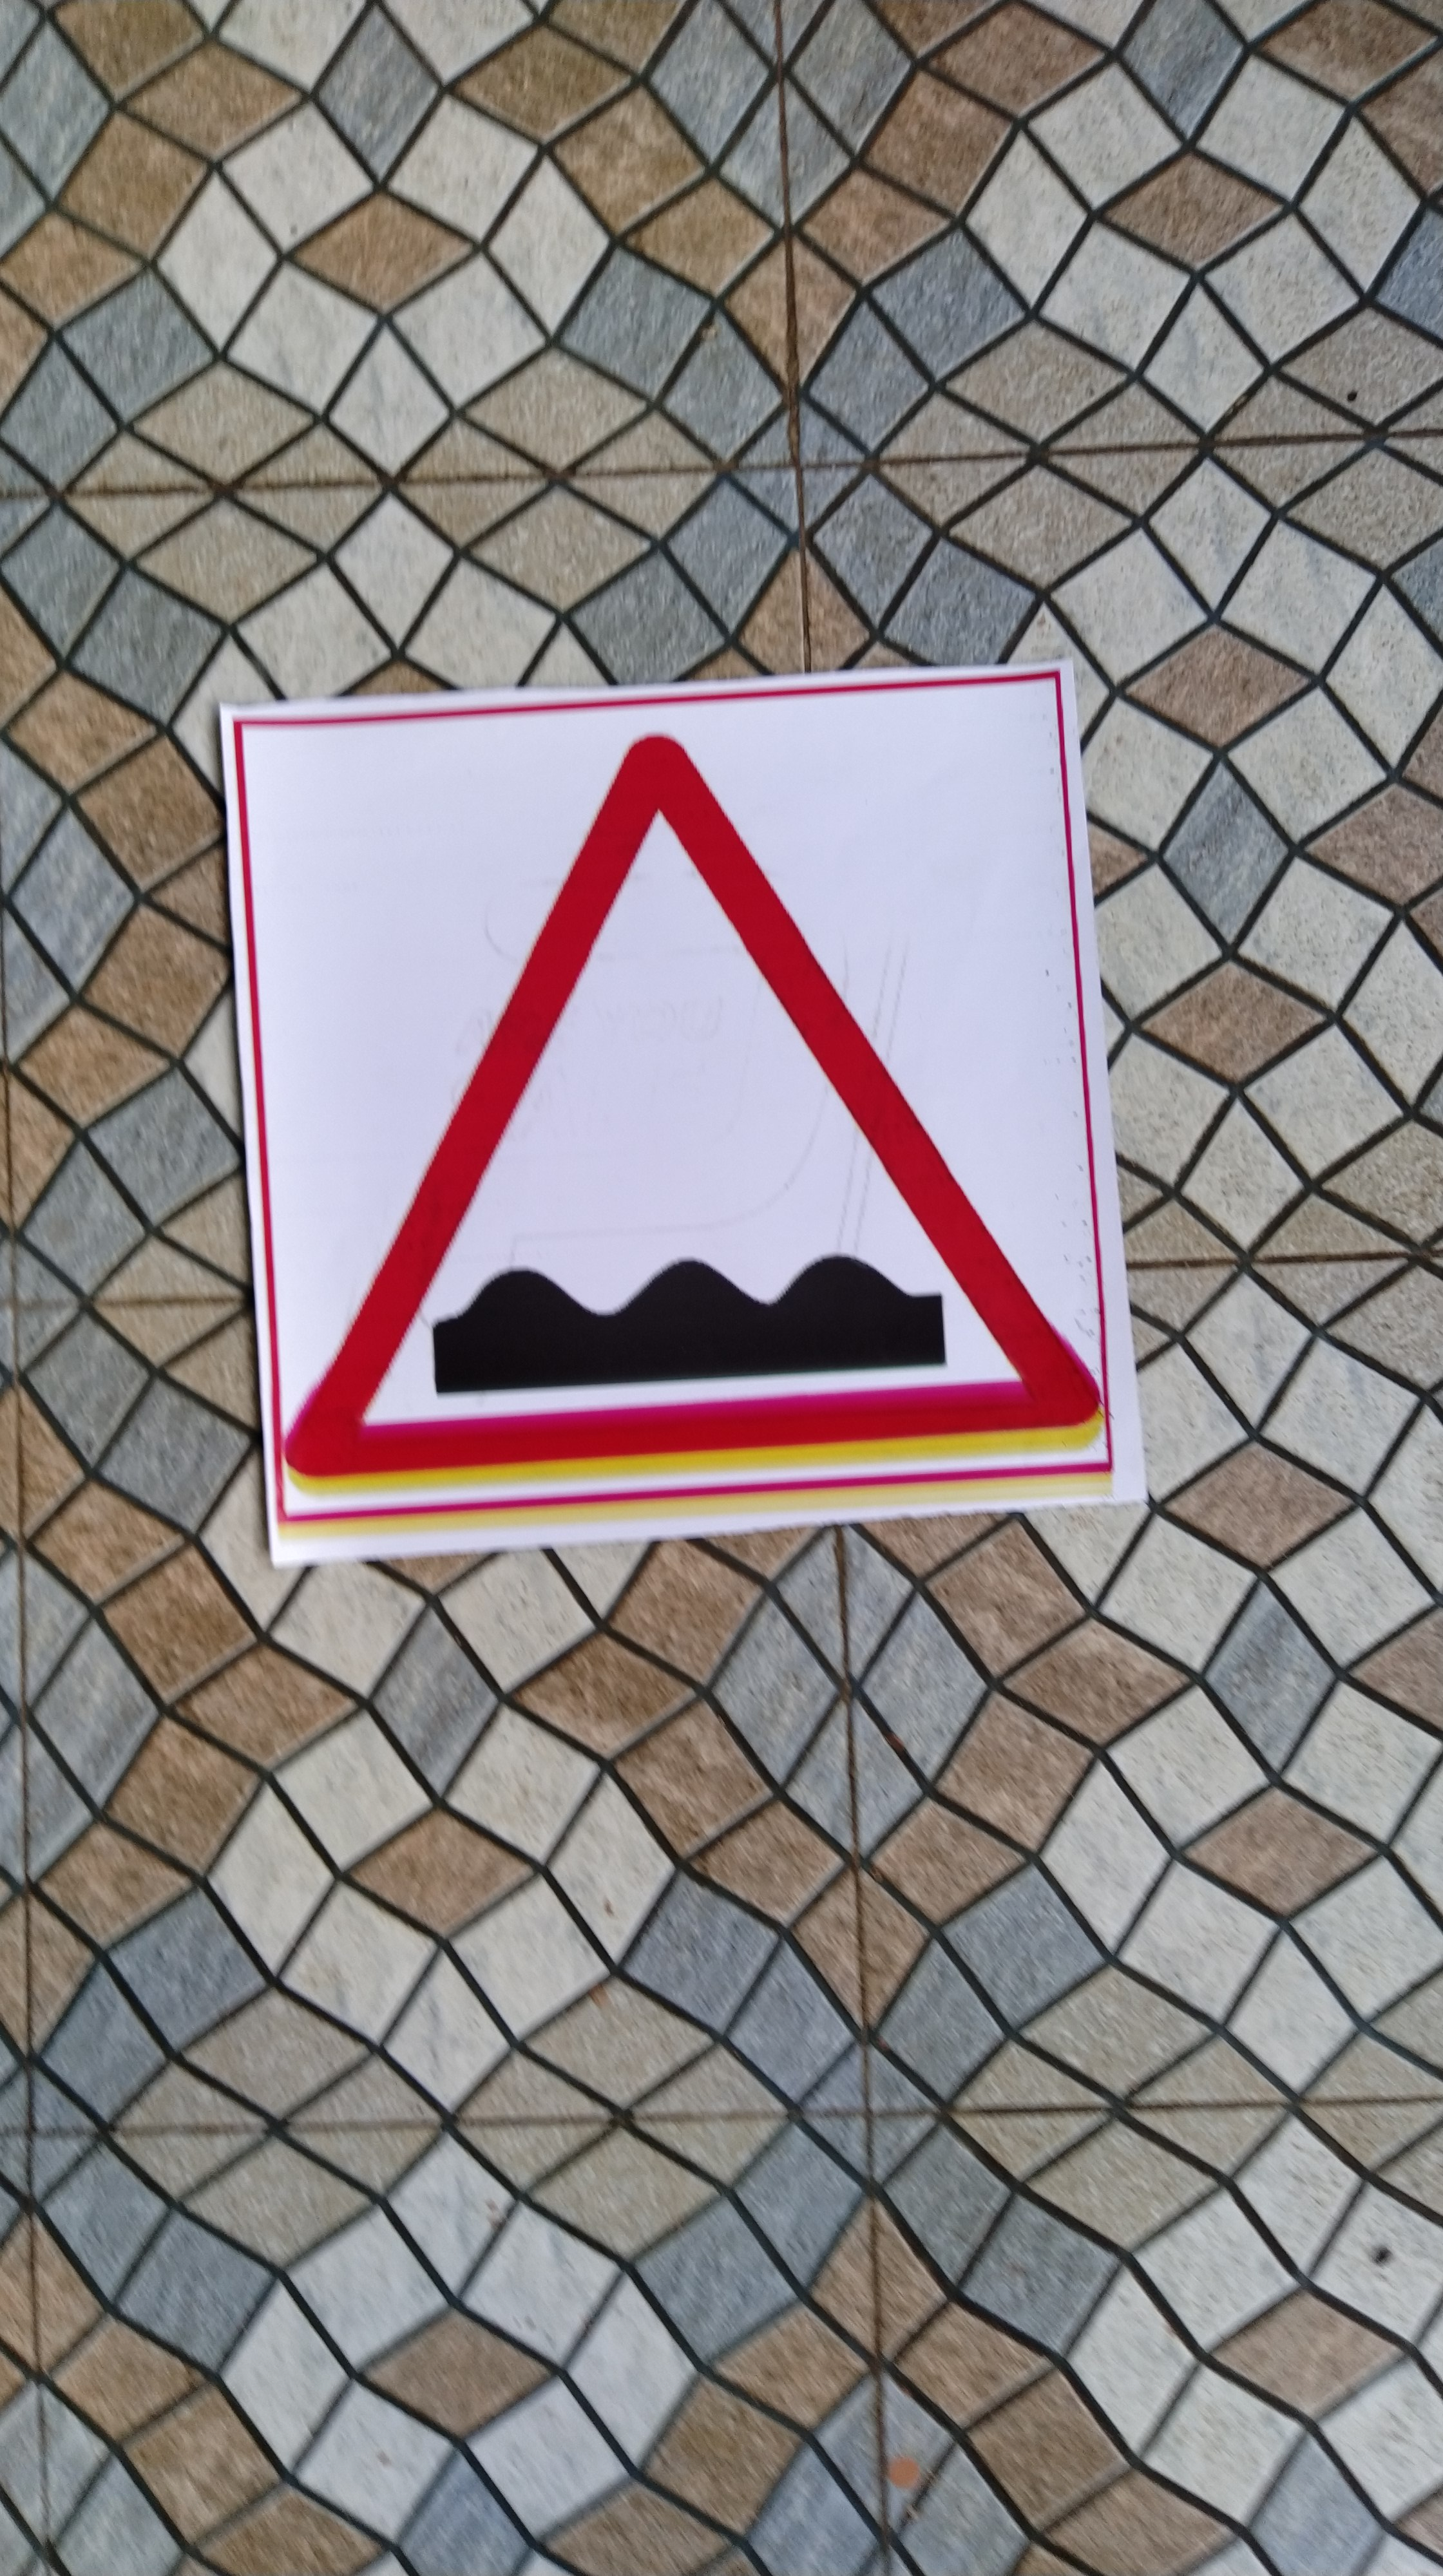speed breaker: (220, 718, 1130, 1486)
